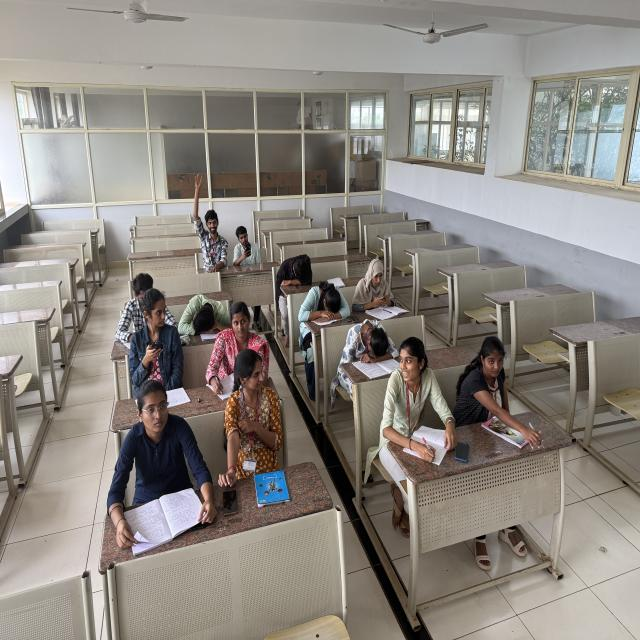Hand Rising: (185, 167, 230, 270)
Reading: (100, 382, 222, 555)
Sleeping: (335, 319, 400, 378), (177, 284, 232, 336), (297, 281, 354, 324), (271, 242, 318, 293)
Using Phone: (127, 286, 179, 381), (353, 250, 405, 316), (228, 217, 266, 270)
Writing: (377, 335, 463, 486), (207, 301, 276, 393)
